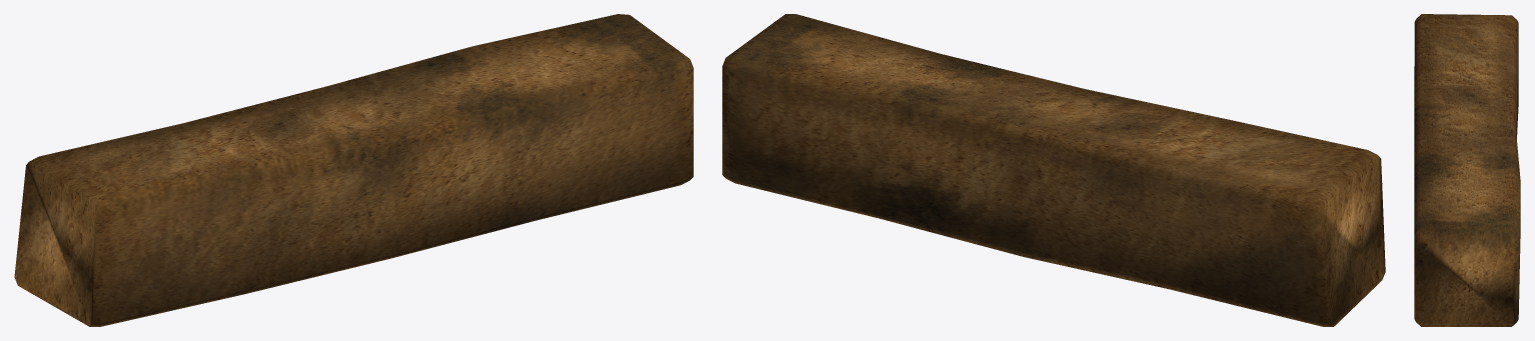
The model's file is Arch.fbx.
3 views of the same model, side by side, from view 1: azimuth 30°, elevation 25°; view 2: azimuth 150°, elevation 25°; view 3: azimuth 270°, elevation 25° (orthographic). The views are drawn at different scales.
Parts seen in each view (by area): view 1: Arch; view 2: Arch; view 3: Arch.
Boxes of the visible parts, x1,y1,x2,y2 form: Arch: [14, 14, 693, 326]; Arch: [722, 14, 1385, 326]; Arch: [1414, 14, 1520, 326].
Bounding box in the file's own units: 255 × 52.79 × 50.88.
